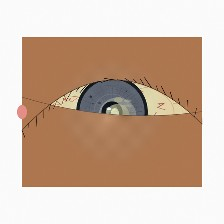corneal_ulcer: (98, 100, 137, 132)
